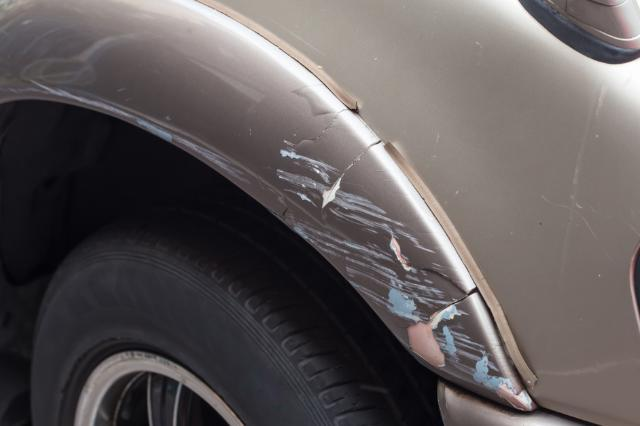Fender: (145, 36, 538, 422)
